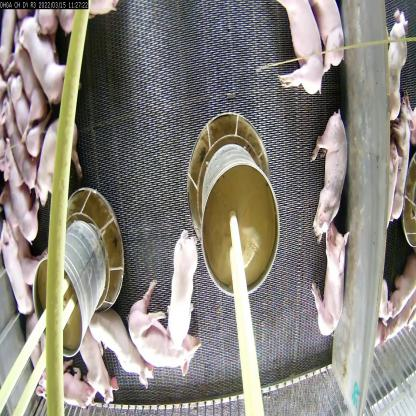Pig: (123, 268, 207, 375), (90, 300, 158, 394), (35, 108, 90, 212), (273, 0, 327, 99), (15, 9, 70, 106), (312, 107, 351, 240), (165, 224, 203, 346), (0, 132, 42, 239), (310, 219, 348, 335), (7, 68, 54, 158), (1, 89, 37, 199), (0, 219, 37, 318), (79, 321, 121, 408)
